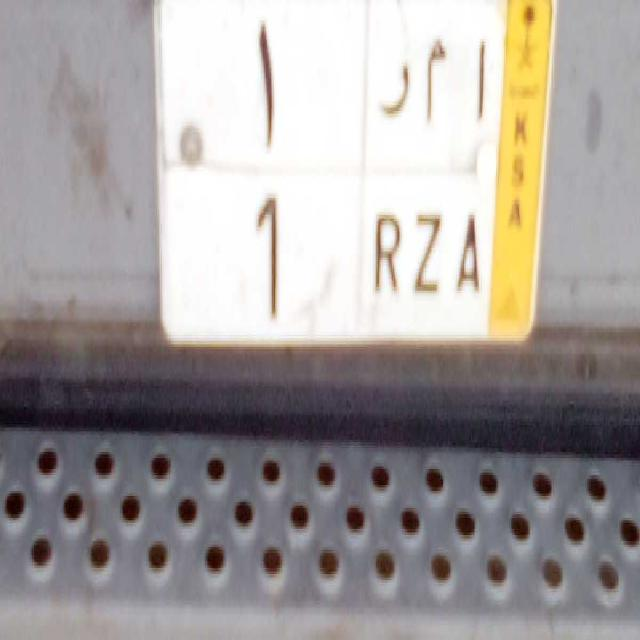license_plate: (164, 159, 492, 346)
